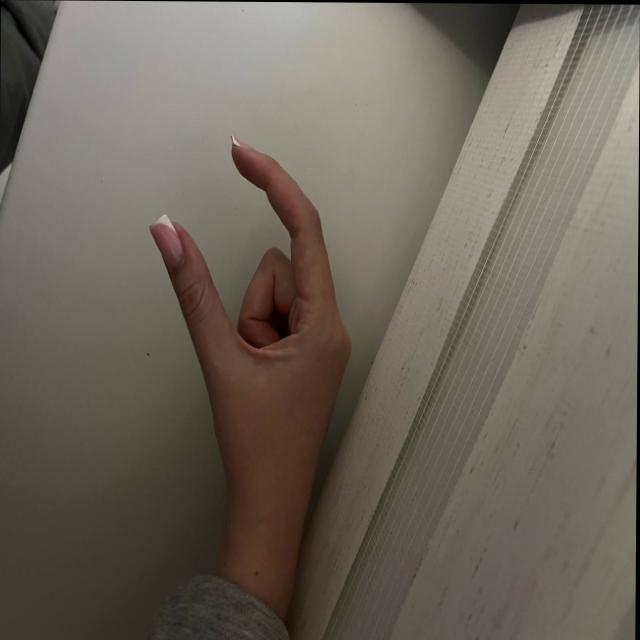uh: (148, 116, 352, 450)
